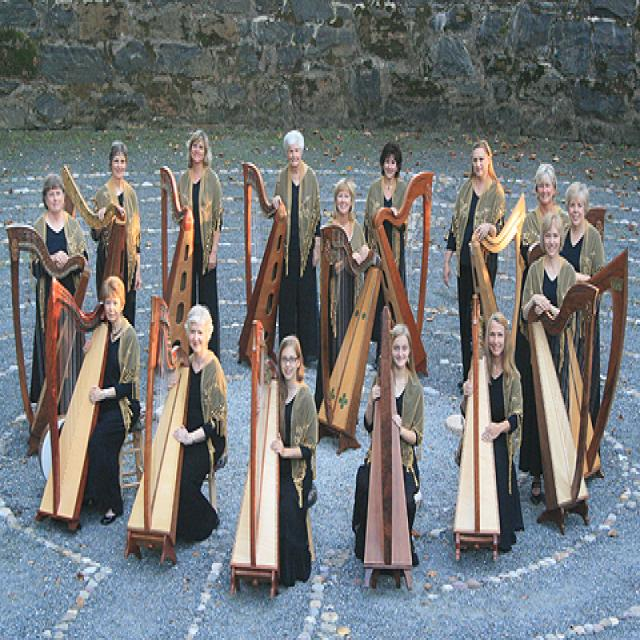harp: (40, 276, 114, 536), (10, 218, 90, 454), (311, 217, 387, 444), (522, 279, 594, 517), (127, 295, 192, 558), (229, 319, 285, 596), (363, 302, 418, 578), (570, 243, 634, 479), (450, 292, 503, 556), (373, 167, 438, 377), (229, 149, 287, 362), (468, 198, 527, 360), (57, 169, 123, 296), (152, 164, 193, 362), (584, 207, 611, 245)
